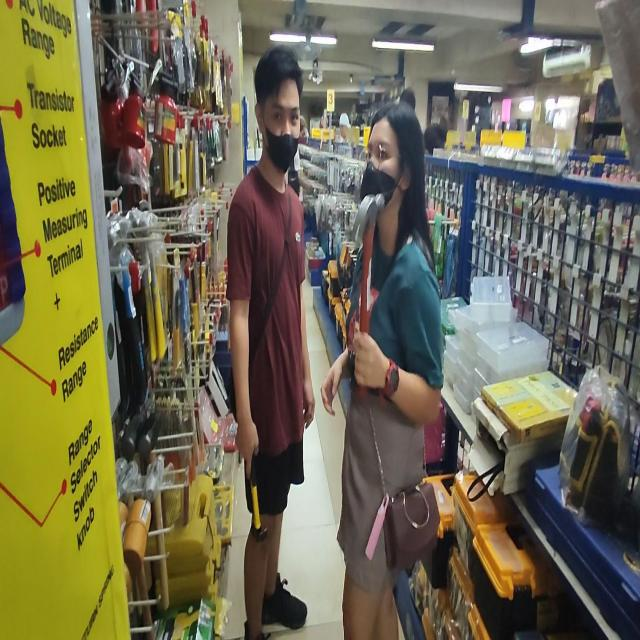hammer: (351, 194, 384, 394), (250, 458, 268, 541)
